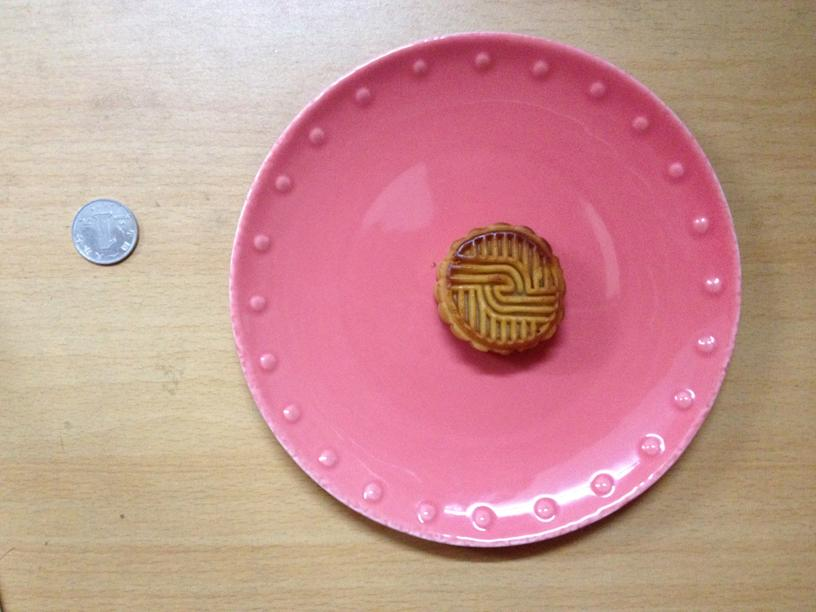coin: (71, 200, 139, 266)
mooncake: (432, 223, 566, 355)
